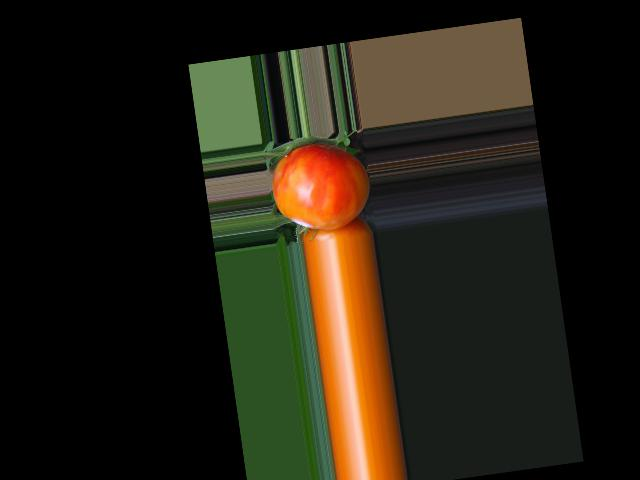tomato: (267, 137, 375, 236)
